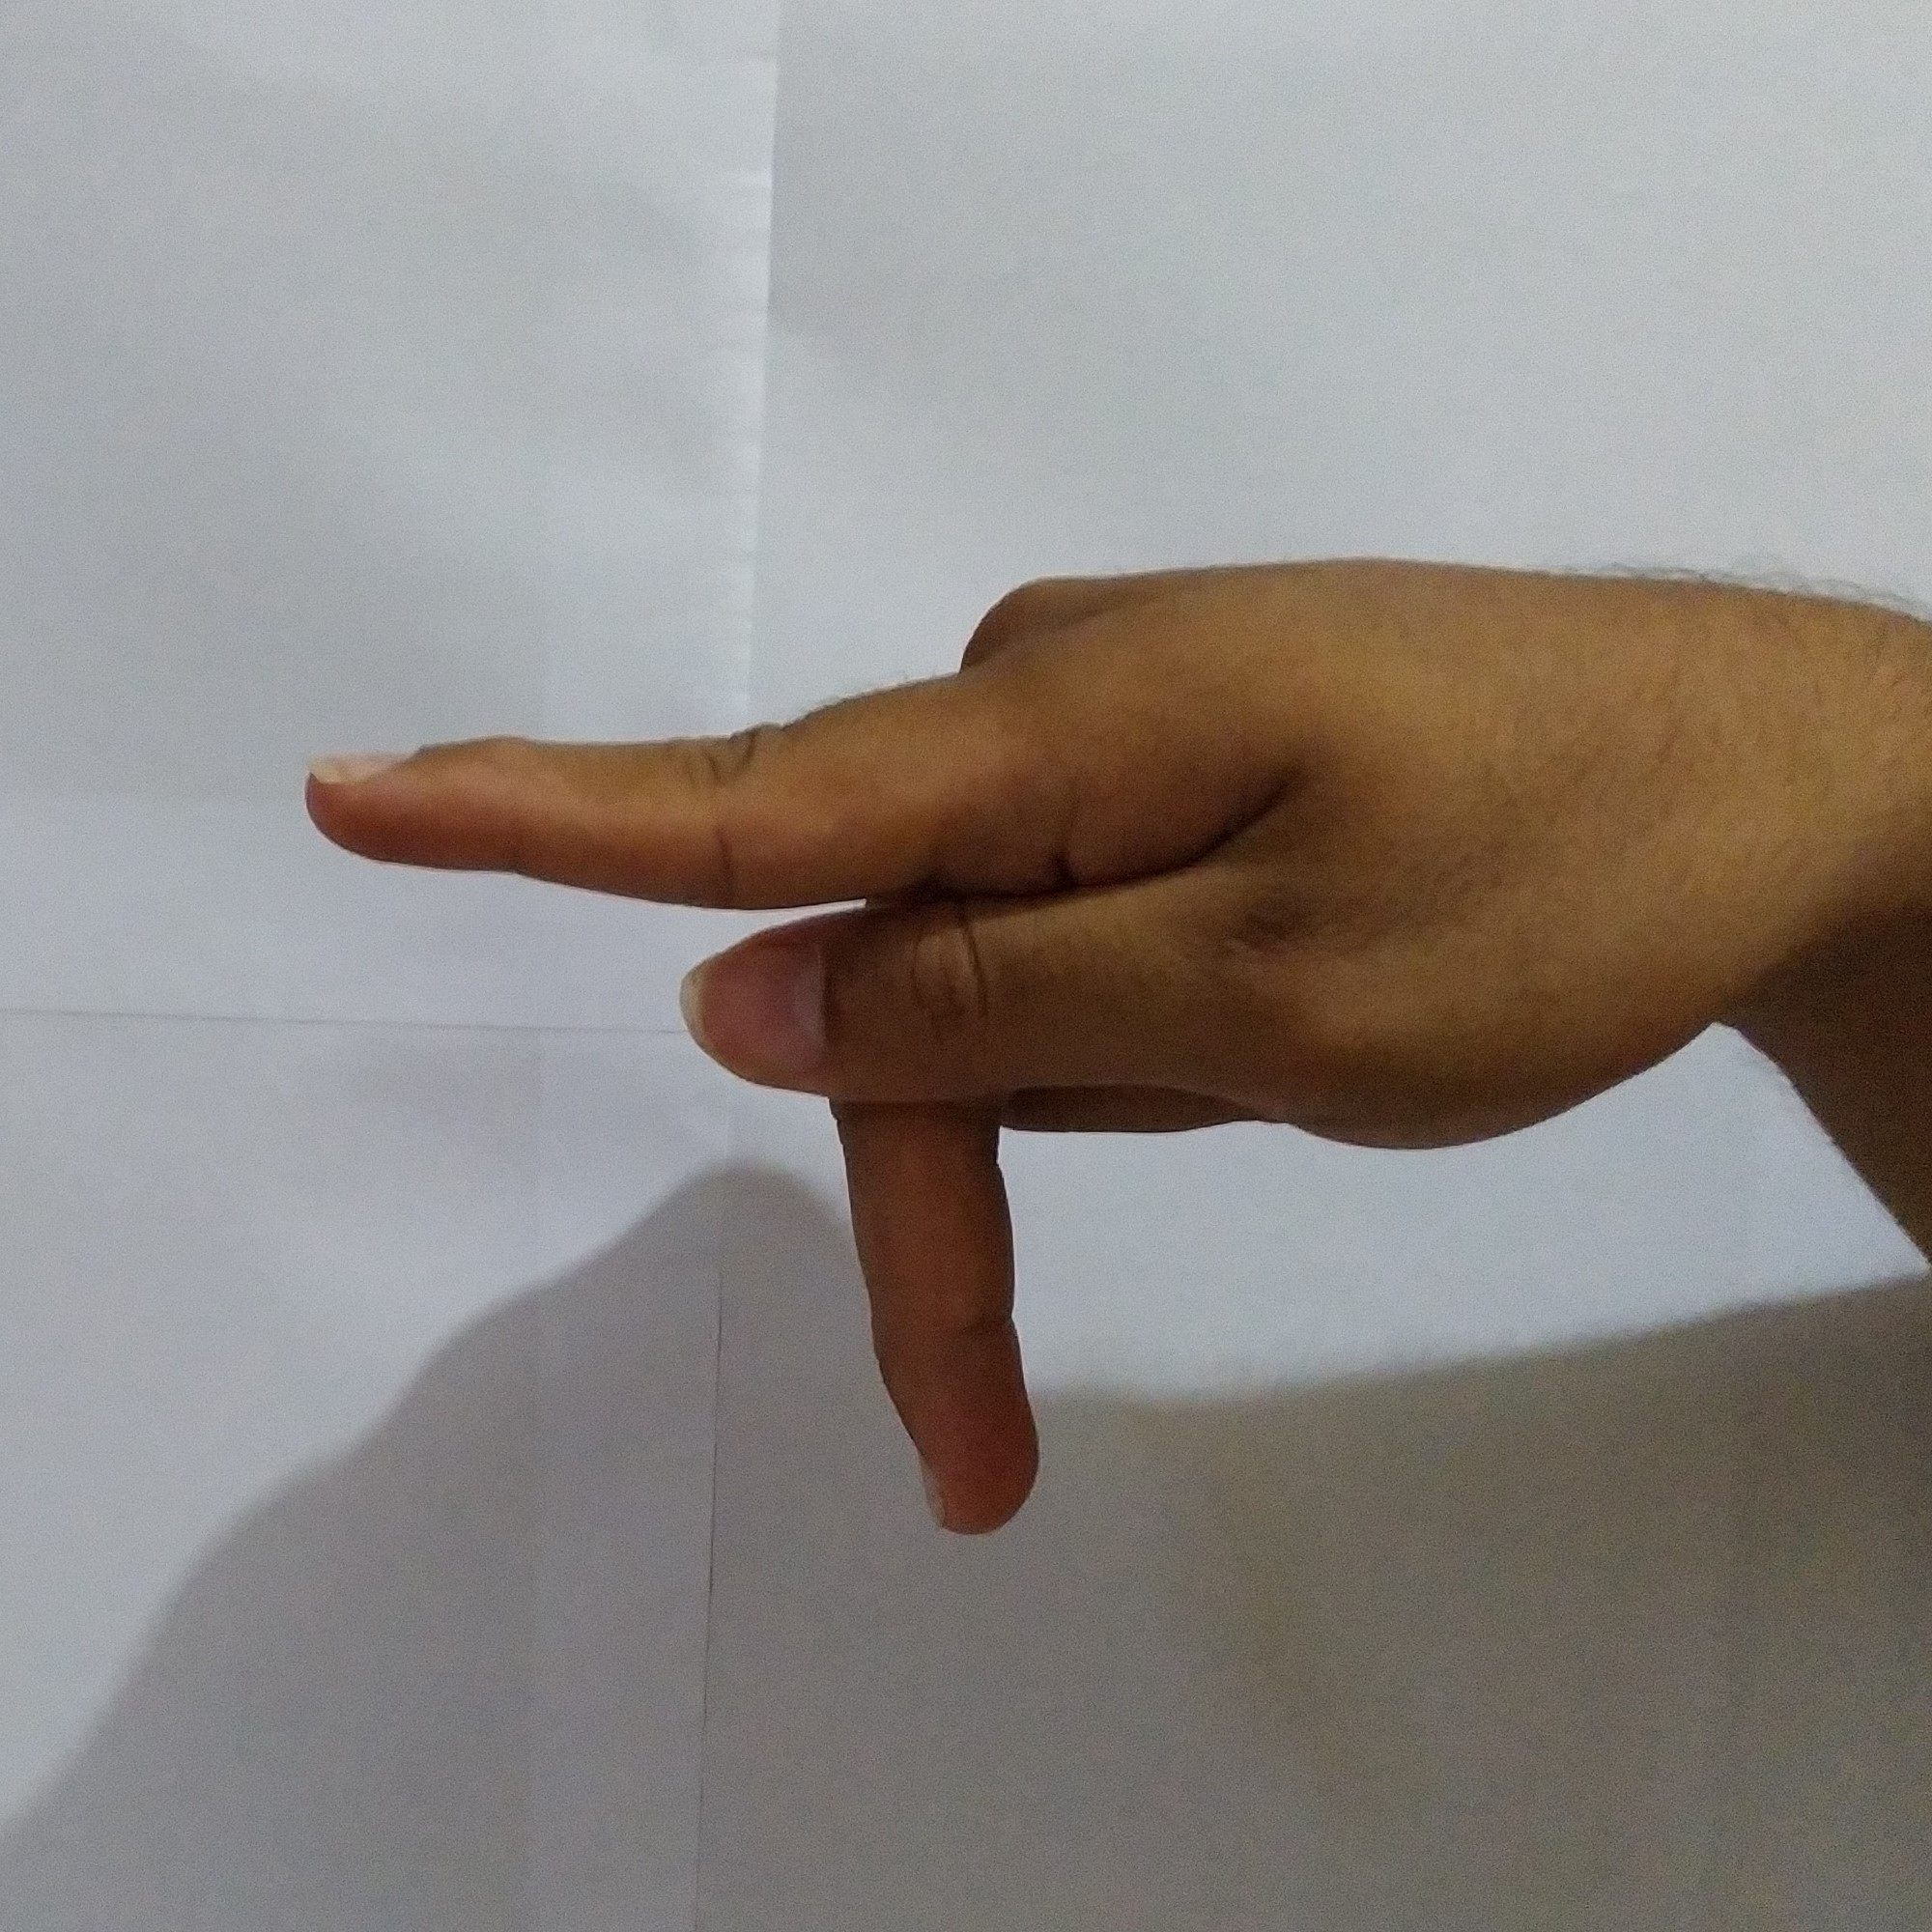P: (278, 527, 1766, 1555)
